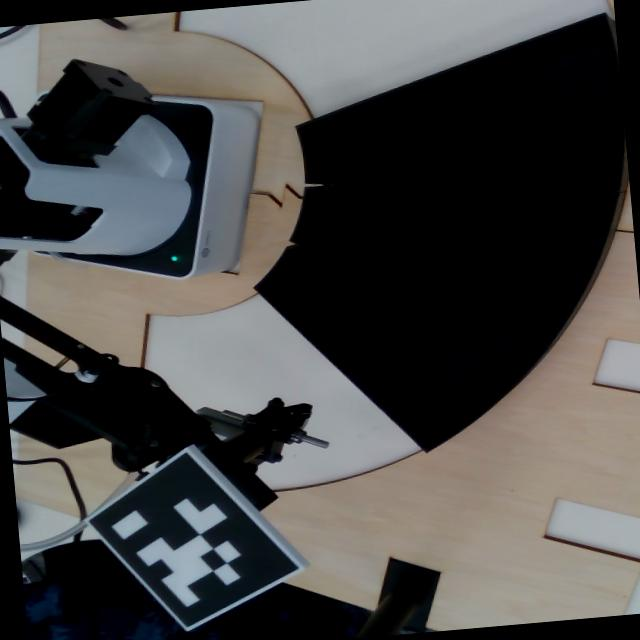box: (214, 237, 567, 493), (284, 9, 619, 222), (276, 184, 621, 344)
